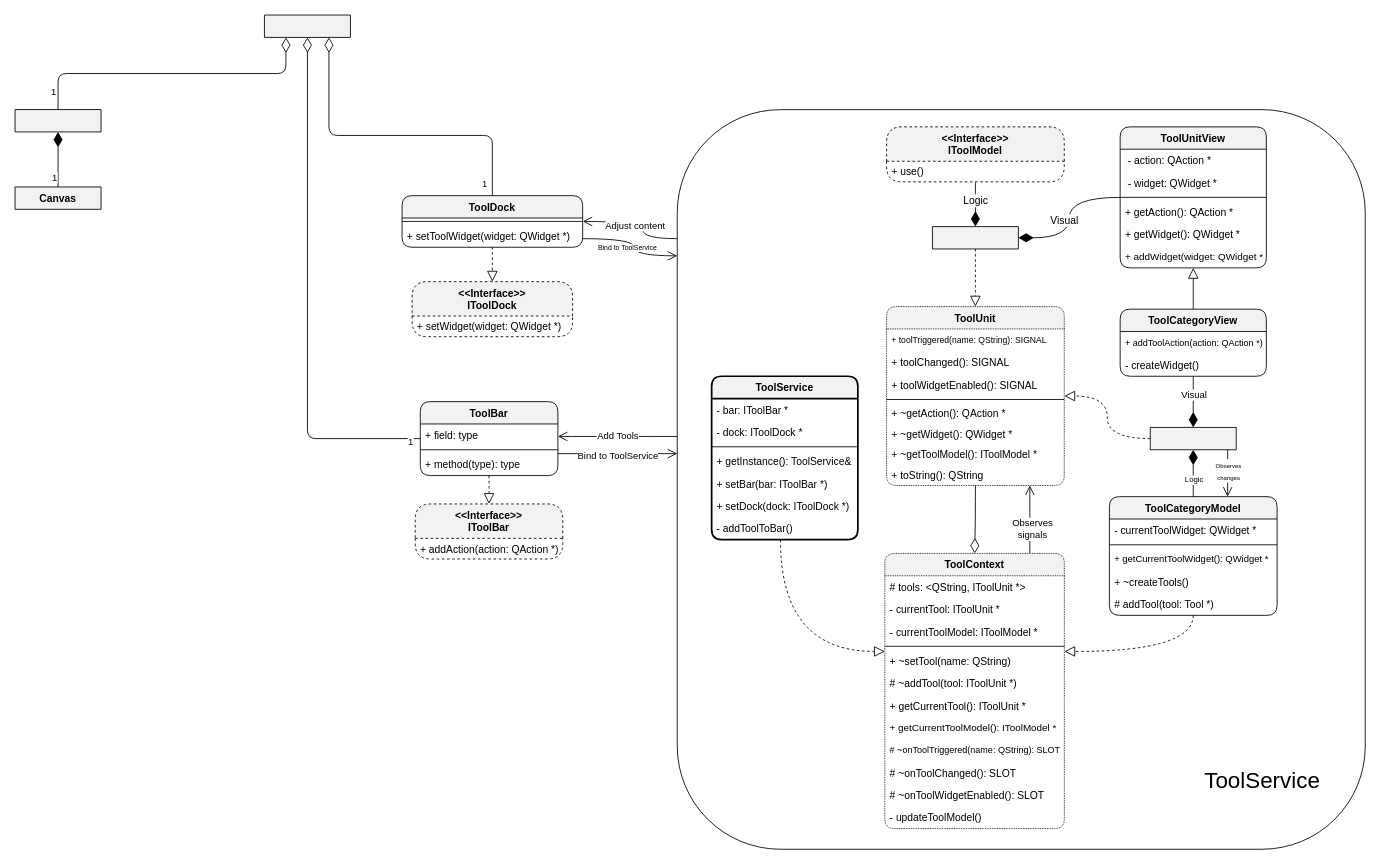
This 1380x864 diagram has some shape labels left out. The shapes that lost their labels are listed below. From the top down, each one's centre as x and y in pixels, then its label:
At point (307, 25): "ImageEditor".
At point (57, 120): "ImageViewer".
At point (975, 237): "Tool".
At point (1192, 438): "ToolCategory".
